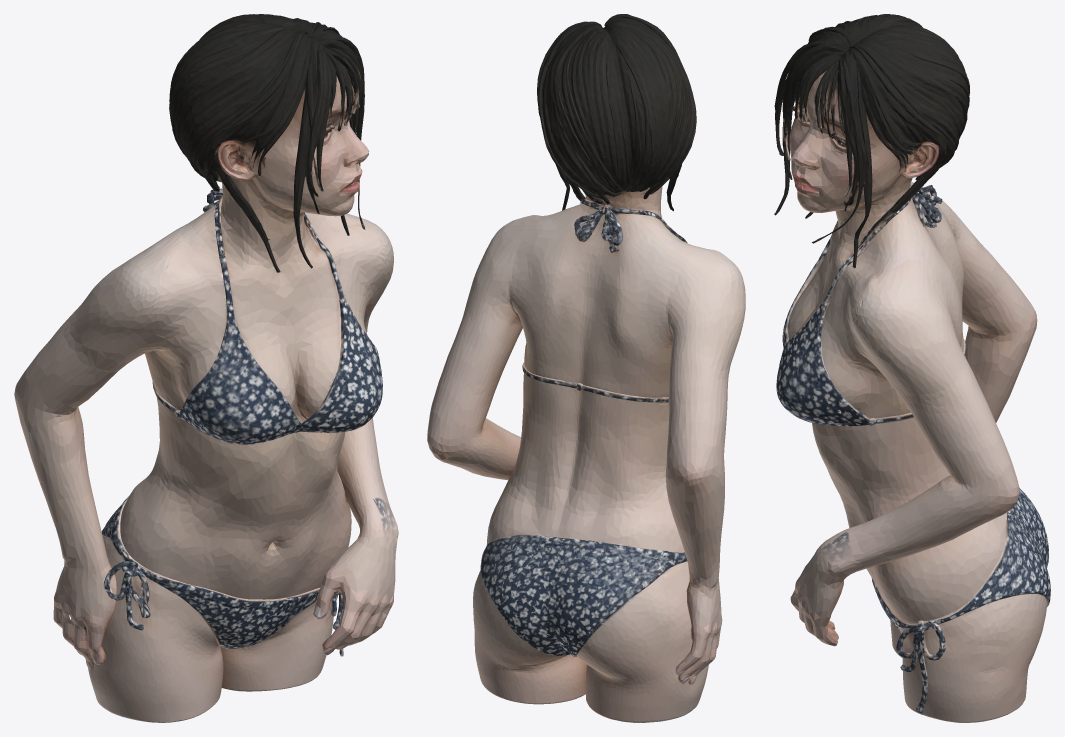
Rendered from girl4.glb.
3 renders of one model, left to right at view 1: azimuth 30°, elevation 25°; view 2: azimuth 150°, elevation 25°; view 3: azimuth 270°, elevation 25°, orthographic. The views are drawn at different scales.
Parts seen in each view (by area): view 1: tripo_node_3214bcf5-0934-435f-9724-6f23ccbd90c8; view 2: tripo_node_3214bcf5-0934-435f-9724-6f23ccbd90c8; view 3: tripo_node_3214bcf5-0934-435f-9724-6f23ccbd90c8.
Part boxes in pixels (x1,y1,x2,y2): tripo_node_3214bcf5-0934-435f-9724-6f23ccbd90c8: [14, 14, 398, 722]; tripo_node_3214bcf5-0934-435f-9724-6f23ccbd90c8: [427, 14, 745, 722]; tripo_node_3214bcf5-0934-435f-9724-6f23ccbd90c8: [774, 14, 1050, 722].
Size of the model in its own units: 0.4806 by 0.9789 by 0.3738.
1 material, 1 textured.
